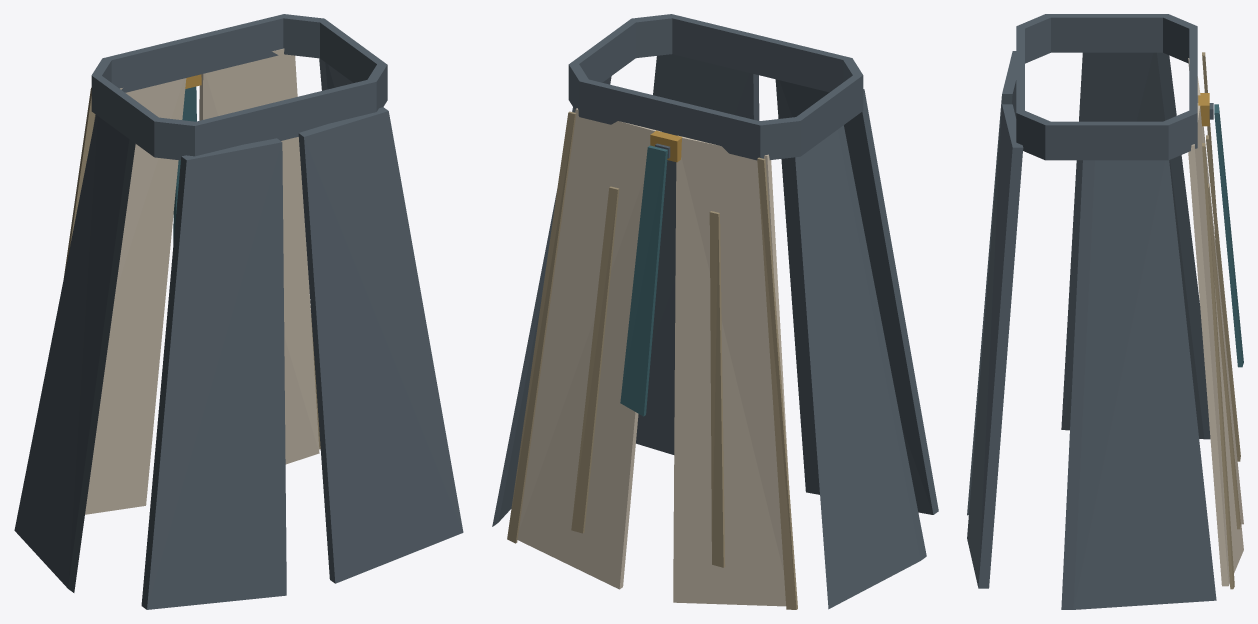
3 renders of one model, left to right at view 1: azimuth 30°, elevation 25°; view 2: azimuth 150°, elevation 25°; view 3: azimuth 270°, elevation 25°, orthographic. The views are drawn at different scales.
Parts seen in each view (by area): view 1: 现有袍衣下摆; view 2: 现有袍衣下摆; view 3: 现有袍衣下摆.
Part boxes in pixels (x1,y1,x2,y2): 现有袍衣下摆: (14,14,463,609); 现有袍衣下摆: (492,14,938,609); 现有袍衣下摆: (967,14,1243,609).
Bounding box in the file's own units: 0.56 × 0.678 × 0.364.
5 materials, 5 textured.
